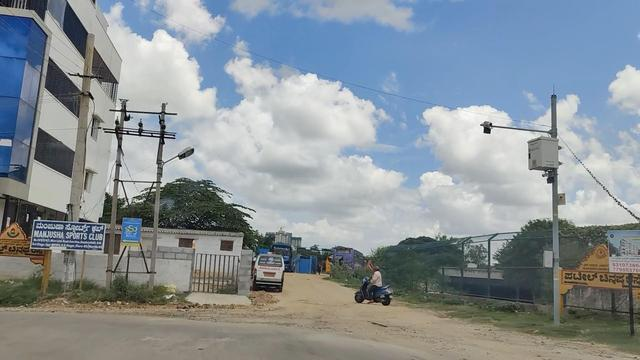LMV: (359, 267, 391, 302), (257, 254, 284, 290)
RoadDamages: (144, 330, 188, 352), (196, 332, 243, 350)
